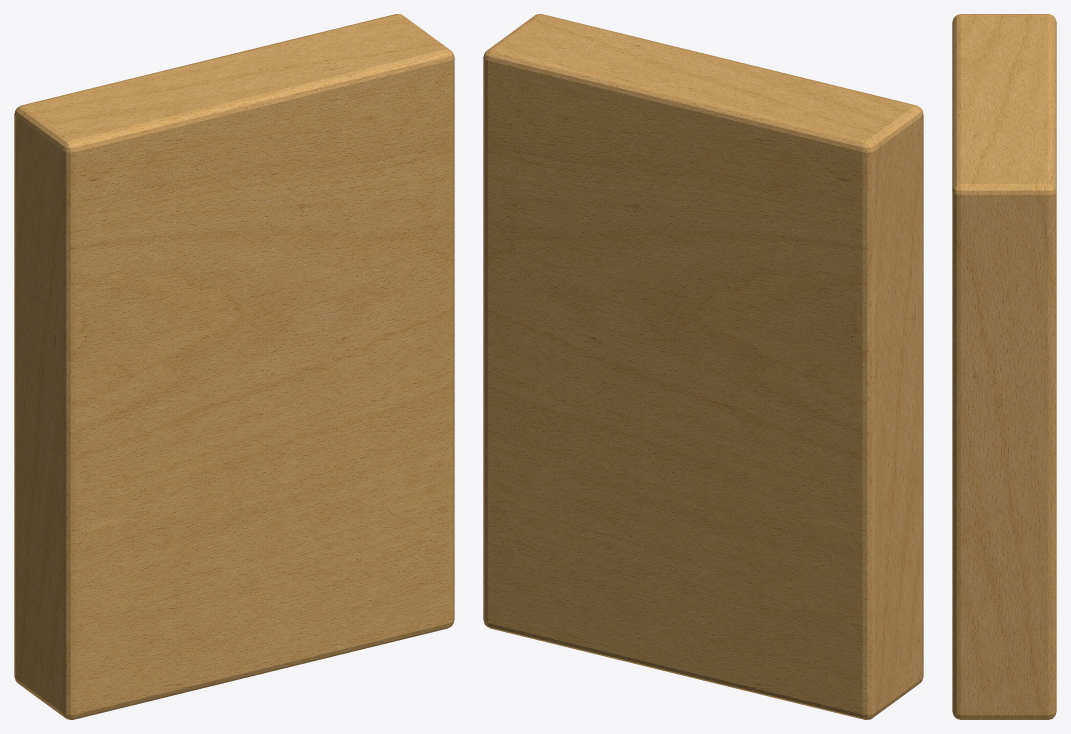
3 views of the same model, side by side, from view 1: azimuth 30°, elevation 25°; view 2: azimuth 150°, elevation 25°; view 3: azimuth 270°, elevation 25° (orthographic). The views are drawn at different scales.
Parts seen in each view (by area): view 1: plank_starting_point; view 2: plank_starting_point; view 3: plank_starting_point.
Boxes of the visible parts, x1,y1,x2,y2 form: plank_starting_point: [14, 14, 454, 719]; plank_starting_point: [483, 14, 923, 719]; plank_starting_point: [952, 14, 1056, 719].
Size of the model in its own units: 0.06 by 0.085 by 0.015.
1 material, 1 textured.
